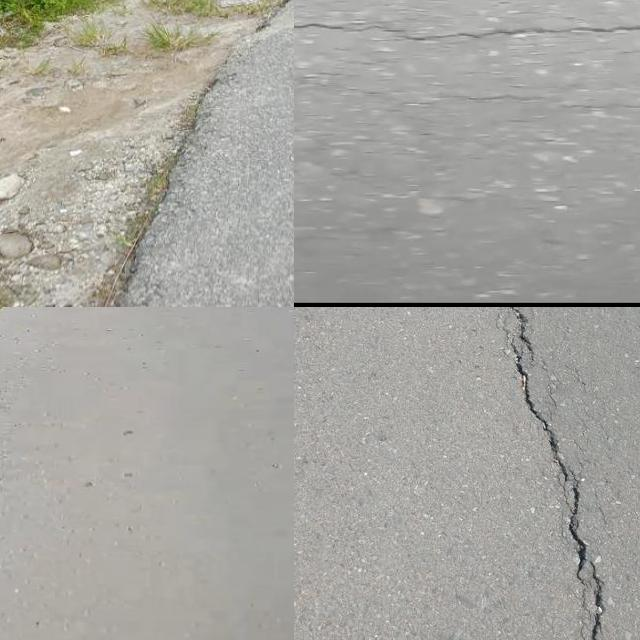Memanjang: (492, 307, 614, 640)
Pinggir: (66, 0, 294, 307)
